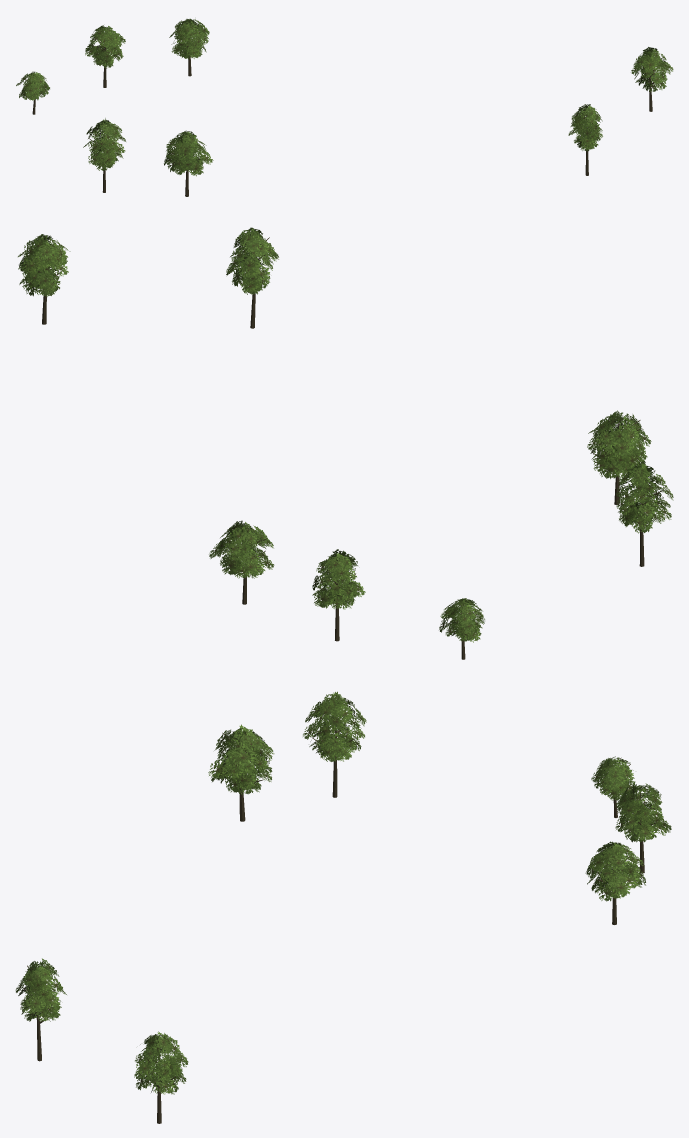
File: TRB8-FOREST-CHUNK-6-5.glb
3 renders of one model, top to bottom at view 1: azimuth 30°, elevation 25°; view 2: azimuth 150°, elevation 25°; view 3: azimuth 270°, elevation 25°, orthographic. The views are drawn at different scales.
Parts seen in each view (by area): view 1: TRB8-FOREST-CHUNK-6-5; view 2: TRB8-FOREST-CHUNK-6-5; view 3: TRB8-FOREST-CHUNK-6-5.
Part boxes in pixels (x1,y1,x2,y2): TRB8-FOREST-CHUNK-6-5: (16,18,673,196); TRB8-FOREST-CHUNK-6-5: (18,227,673,659); TRB8-FOREST-CHUNK-6-5: (15,691,671,1123).
Size of the model in its own units: 41.26 by 5.66 by 31.46.
Materials: 2 (1 with a texture image).
